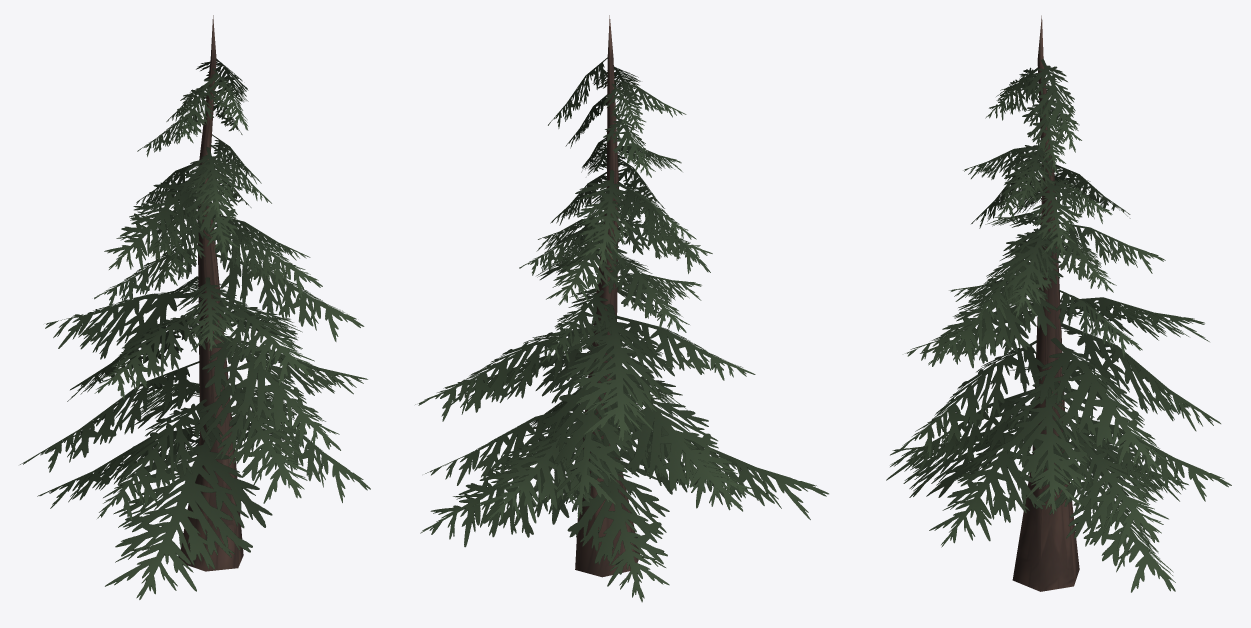
Rendered from Pine Tree 01.fbx.
3 views of the same model, side by side, from view 1: azimuth 30°, elevation 25°; view 2: azimuth 150°, elevation 25°; view 3: azimuth 270°, elevation 25° (orthographic). The views are drawn at different scales.
Parts seen in each view (by area): view 1: pine_tree_01_m_LOD0; view 2: pine_tree_01_m_LOD0; view 3: pine_tree_01_m_LOD0.
Part boxes in pixels (left/top/right/bottom): pine_tree_01_m_LOD0: left=20, top=15, right=370, bottom=599; pine_tree_01_m_LOD0: left=415, top=15, right=828, bottom=602; pine_tree_01_m_LOD0: left=886, top=15, right=1231, bottom=592.
Size of what is drawn, in the model's own units: 372 by 577 by 340.
